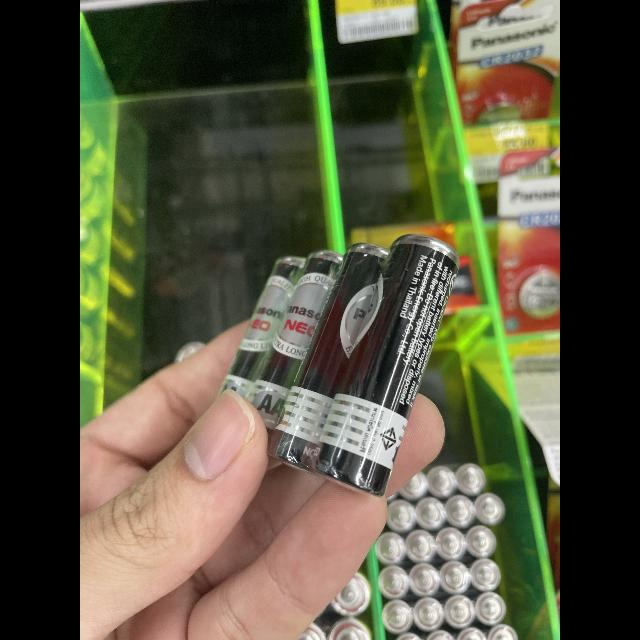battery: (336, 236, 464, 498), (286, 236, 386, 468), (214, 248, 304, 432), (260, 244, 336, 452)
